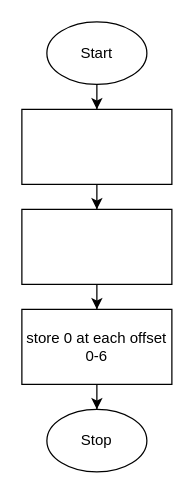
The diagram is 194 pixels wide and 494 high, and some of its shapes have lost their labels. Each missing label, with the box of its shape:
load completed space: (21, 208, 172, 284)
Store 0 at completed val: (21, 108, 172, 184)
